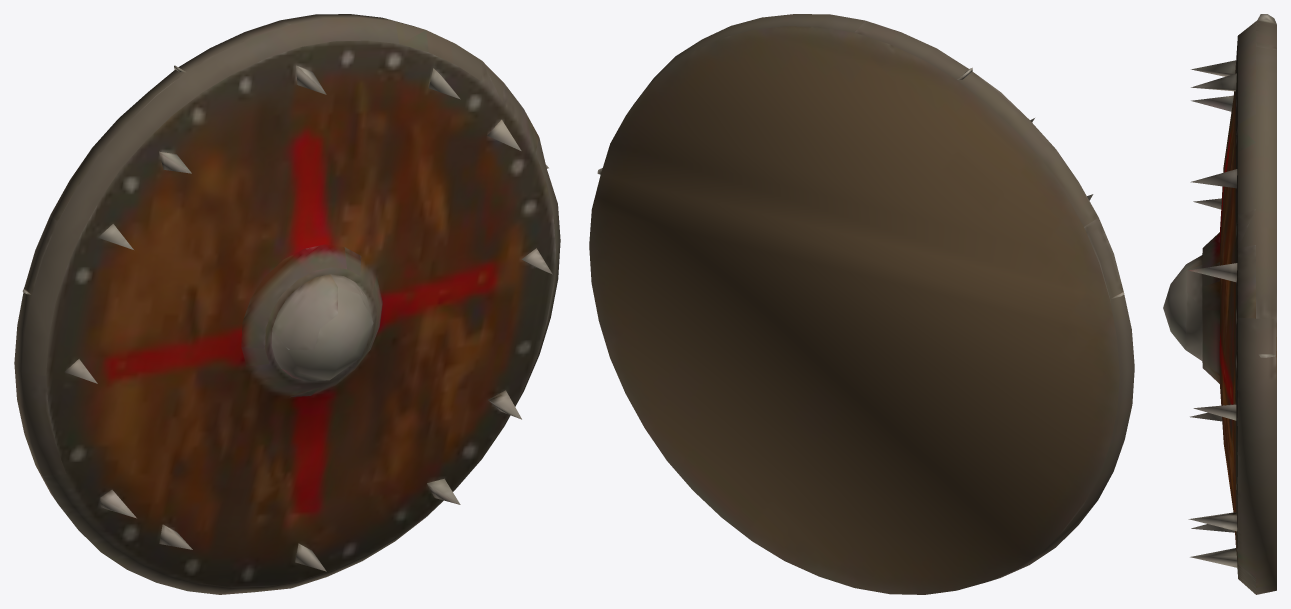
File: shield_clan.fbx
The picture shows the model from 3 angles, left to right: view 1: azimuth 30°, elevation 25°; view 2: azimuth 150°, elevation 25°; view 3: azimuth 270°, elevation 25°; orthographic projection. The views are drawn at different scales.
Visible parts, largest first — view 1: tripo_node_4e57ddf0-79b3-4258-8ac8-1380fbc10fc0; view 2: tripo_node_4e57ddf0-79b3-4258-8ac8-1380fbc10fc0; view 3: tripo_node_4e57ddf0-79b3-4258-8ac8-1380fbc10fc0.
Boxes of the visible parts, <box> form: tripo_node_4e57ddf0-79b3-4258-8ac8-1380fbc10fc0: <box>14,14,560,594</box>; tripo_node_4e57ddf0-79b3-4258-8ac8-1380fbc10fc0: <box>589,14,1134,594</box>; tripo_node_4e57ddf0-79b3-4258-8ac8-1380fbc10fc0: <box>1163,14,1276,594</box>.
Bounding box in the file's own units: 0.85 × 0.85 × 0.1682.
Materials: 1 (1 with a texture image).
